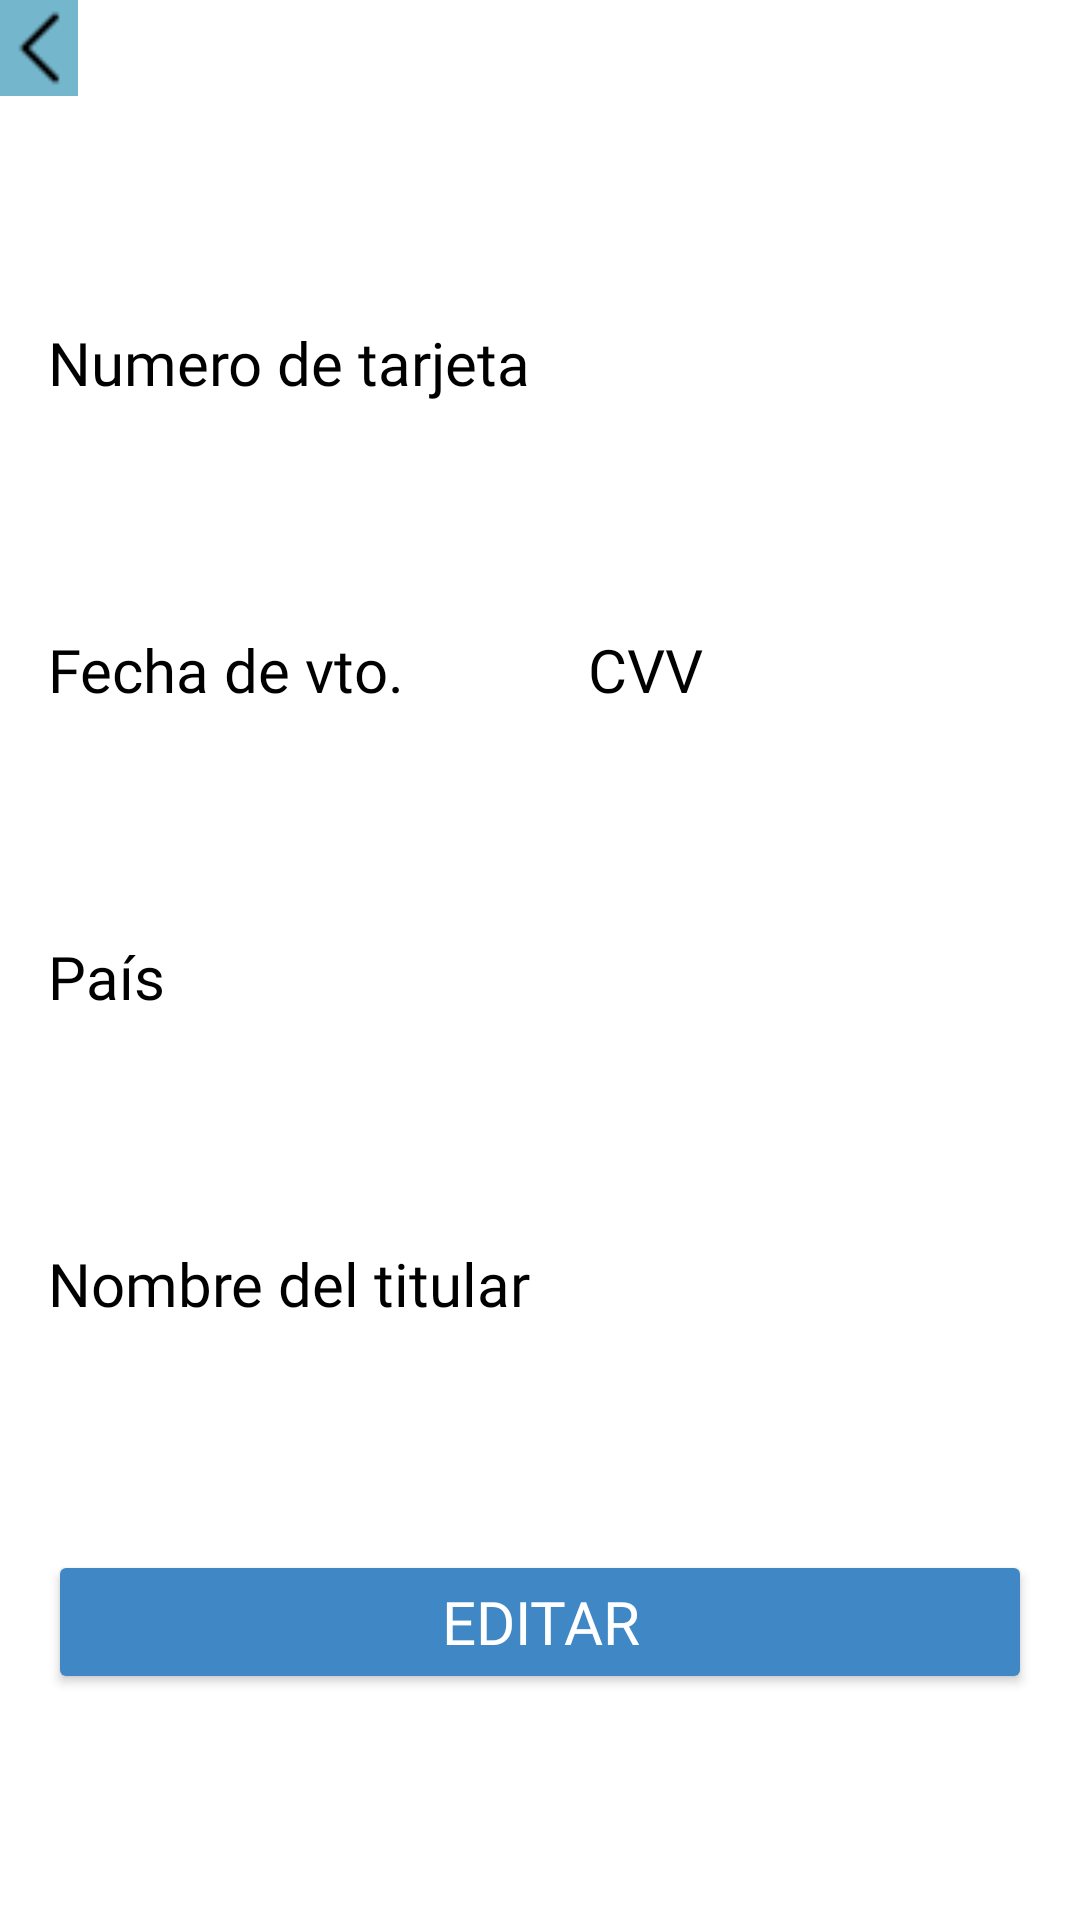

Icon click points for this 1080x1920 phone screenshot, format [x,y]:
flecha: [39,48]
